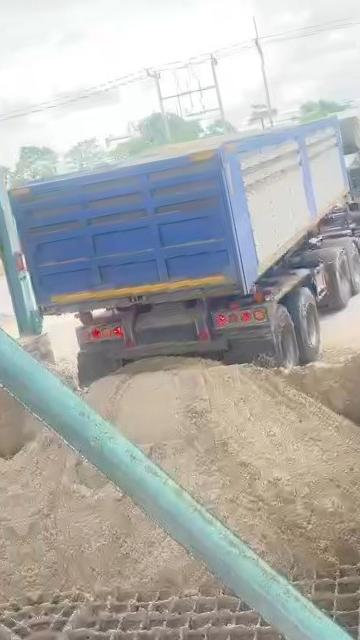sand: (86, 358, 360, 573), (10, 431, 208, 591), (281, 305, 360, 423), (0, 382, 41, 458), (137, 134, 238, 158), (47, 362, 76, 389)
